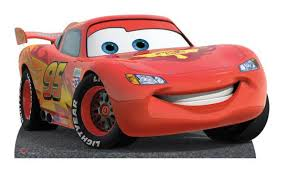mcqueen: (14, 14, 270, 150)
